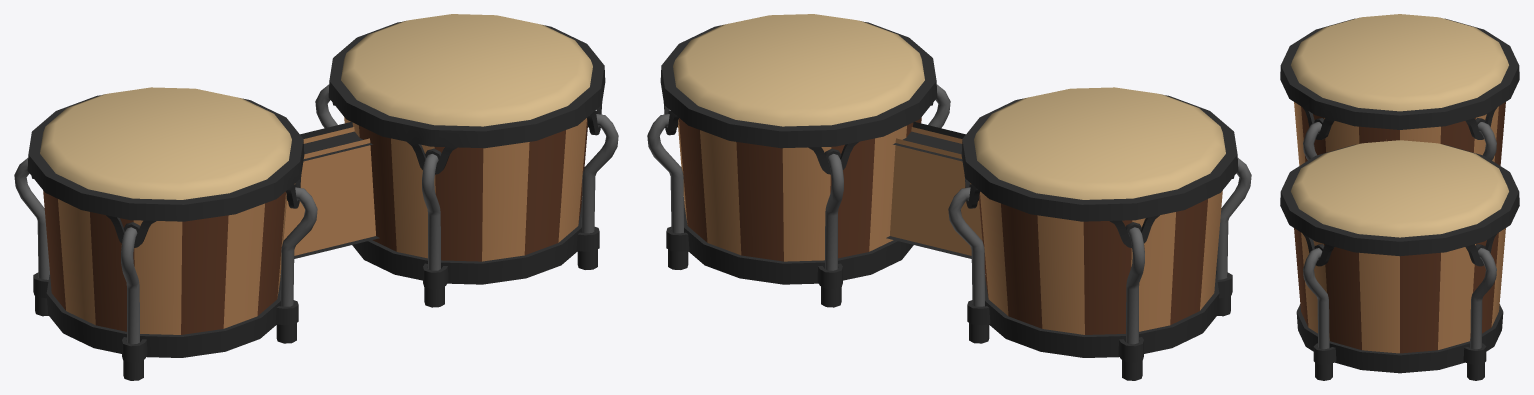
File: CongaDrum_03.fbx
The picture shows the model from 3 angles, left to right: view 1: azimuth 30°, elevation 25°; view 2: azimuth 150°, elevation 25°; view 3: azimuth 270°, elevation 25°; orthographic projection. The views are drawn at different scales.
Visible parts, largest first — view 1: CongaDrum_03; view 2: CongaDrum_03; view 3: CongaDrum_03.
Boxes of the visible parts, box(x1,y1,x2,y2) form: CongaDrum_03: box(14, 14, 618, 380); CongaDrum_03: box(647, 14, 1251, 380); CongaDrum_03: box(1280, 14, 1519, 380).
Size of the model in its own units: 1.03 by 0.3447 by 0.4576.
